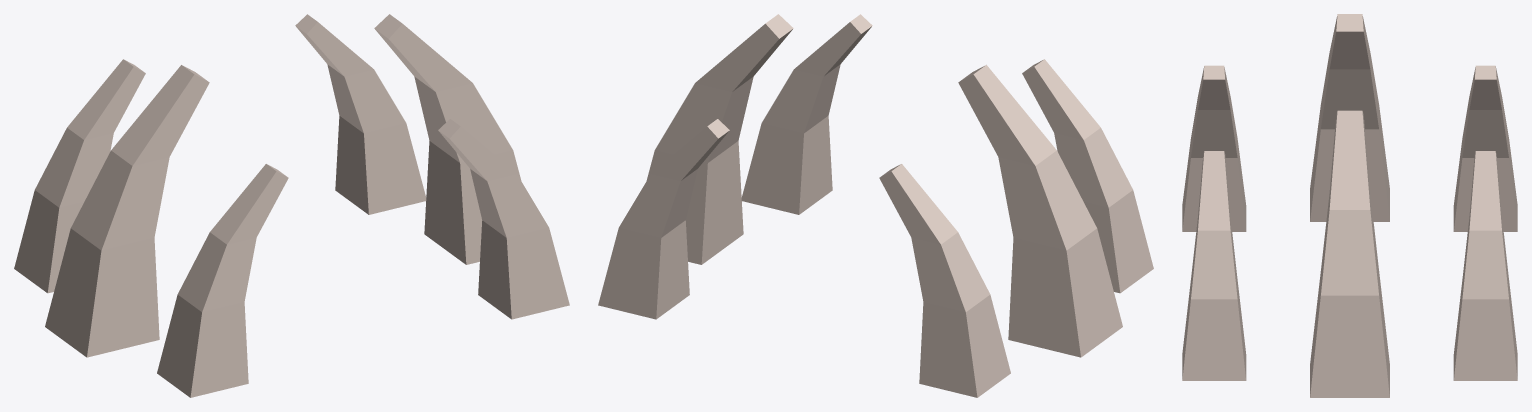
Rendered from bones.gltf.
3 renders of one model, left to right at view 1: azimuth 30°, elevation 25°; view 2: azimuth 150°, elevation 25°; view 3: azimuth 270°, elevation 25°, orthographic. The views are drawn at different scales.
Visible parts, largest first — view 1: bones; view 2: bones; view 3: bones.
Boxes of the visible parts, x1=… form: bones: x1=14, y1=14, x2=569, y2=397; bones: x1=598, y1=14, x2=1153, y2=397; bones: x1=1182, y1=14, x2=1517, y2=397.
Bounding box in the file's own units: 0.8614 × 0.4422 × 0.5821.
